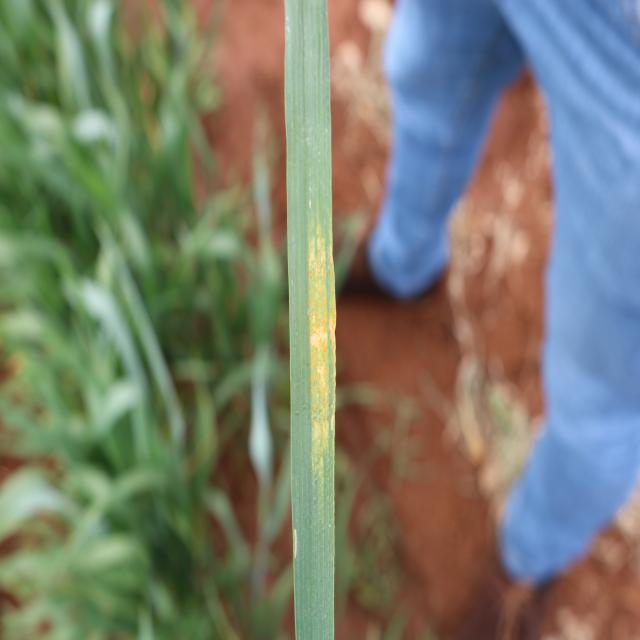Stripe Rust: (309, 226, 336, 484)
